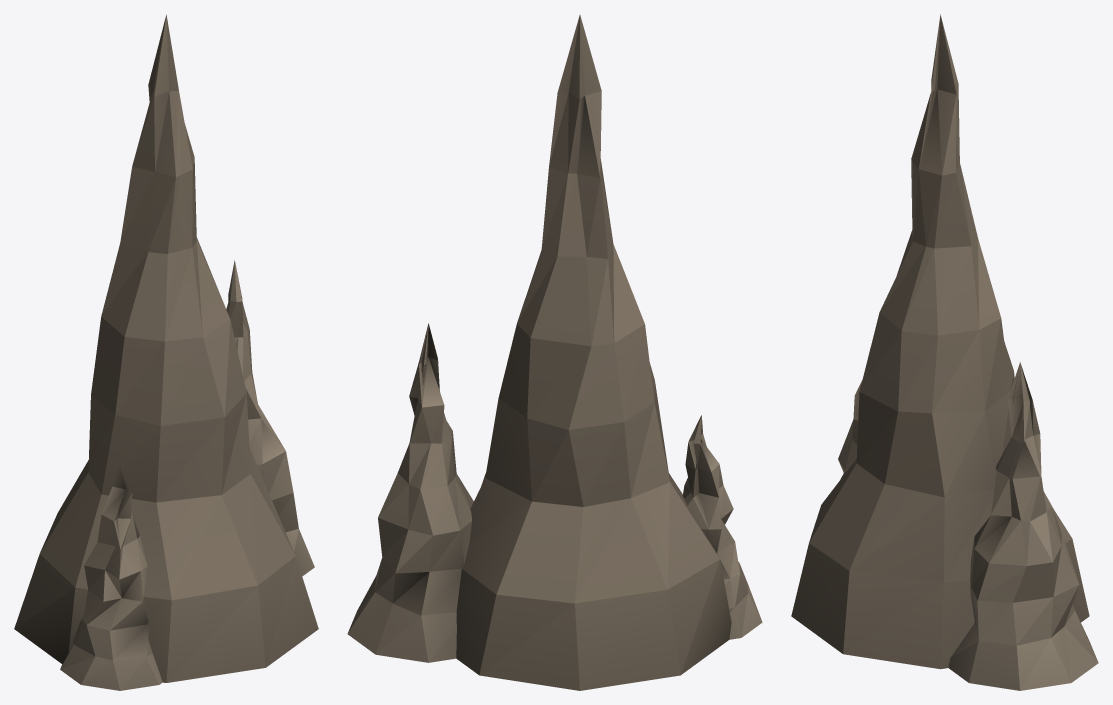
Rendered from stalagmite.glb.
3 renders of one model, left to right at view 1: azimuth 30°, elevation 25°; view 2: azimuth 150°, elevation 25°; view 3: azimuth 270°, elevation 25°, orthographic. The views are drawn at different scales.
Parts seen in each view (by area): view 1: Body; view 2: Body; view 3: Body.
Part boxes in pixels (<box>): Body: <box>14,14,318,690</box>; Body: <box>347,15,762,690</box>; Body: <box>791,14,1098,690</box>.
Bounding box in the file's own units: 0.975 × 1.8 × 0.8483.
